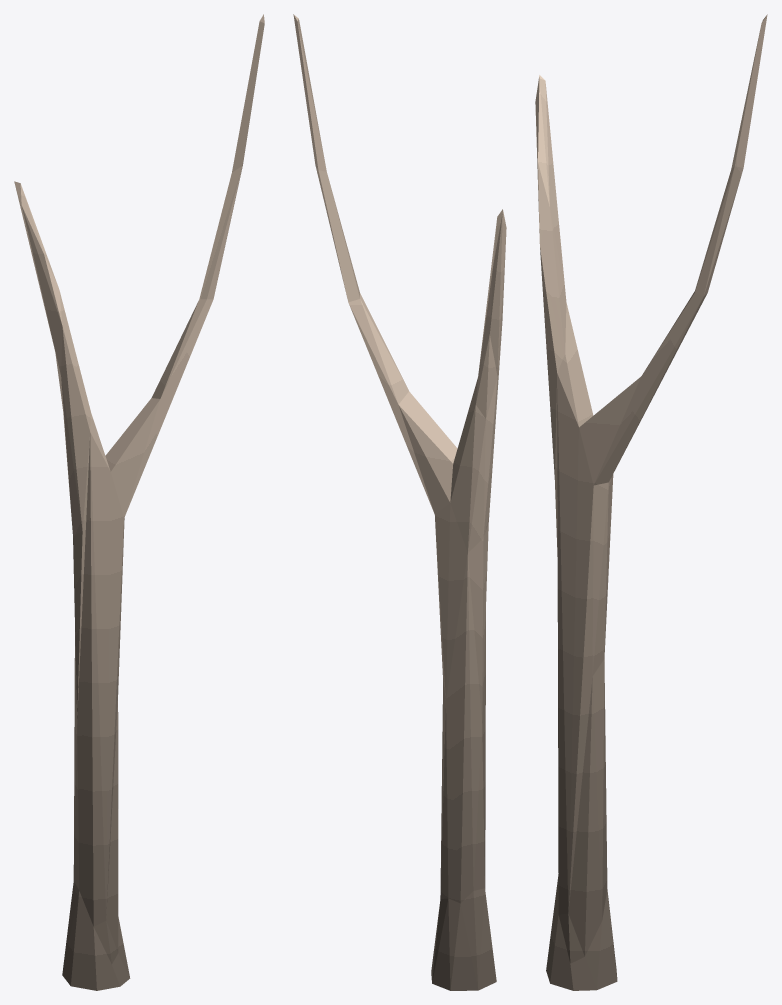
The model's file is Prefab_Foliage_Tree_Birch_Trunk_B.glb.
The picture shows the model from 3 angles, left to right: view 1: azimuth 30°, elevation 25°; view 2: azimuth 150°, elevation 25°; view 3: azimuth 330°, elevation 25°; orthographic projection. The views are drawn at different scales.
Visible parts, largest first — view 1: BirchTree_B_Trunk; view 2: BirchTree_B_Trunk; view 3: BirchTree_B_Trunk.
Boxes of the visible parts, left/top/right/bottom form: BirchTree_B_Trunk: left=14, top=14, right=264, bottom=990; BirchTree_B_Trunk: left=293, top=14, right=506, bottom=990; BirchTree_B_Trunk: left=535, top=14, right=767, bottom=990.
Size of the model in its own units: 1.68 by 6.44 by 0.4892.
Materials: 1 (1 with a texture image).
